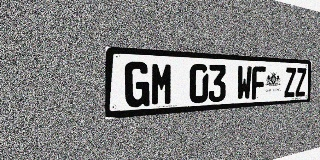0: (189, 64, 208, 104)
3: (208, 64, 226, 102)
F: (251, 66, 266, 100)
G: (124, 61, 150, 108)
M: (150, 62, 173, 106)
W: (236, 65, 252, 101)
Z: (284, 67, 296, 97), (295, 68, 306, 97)
